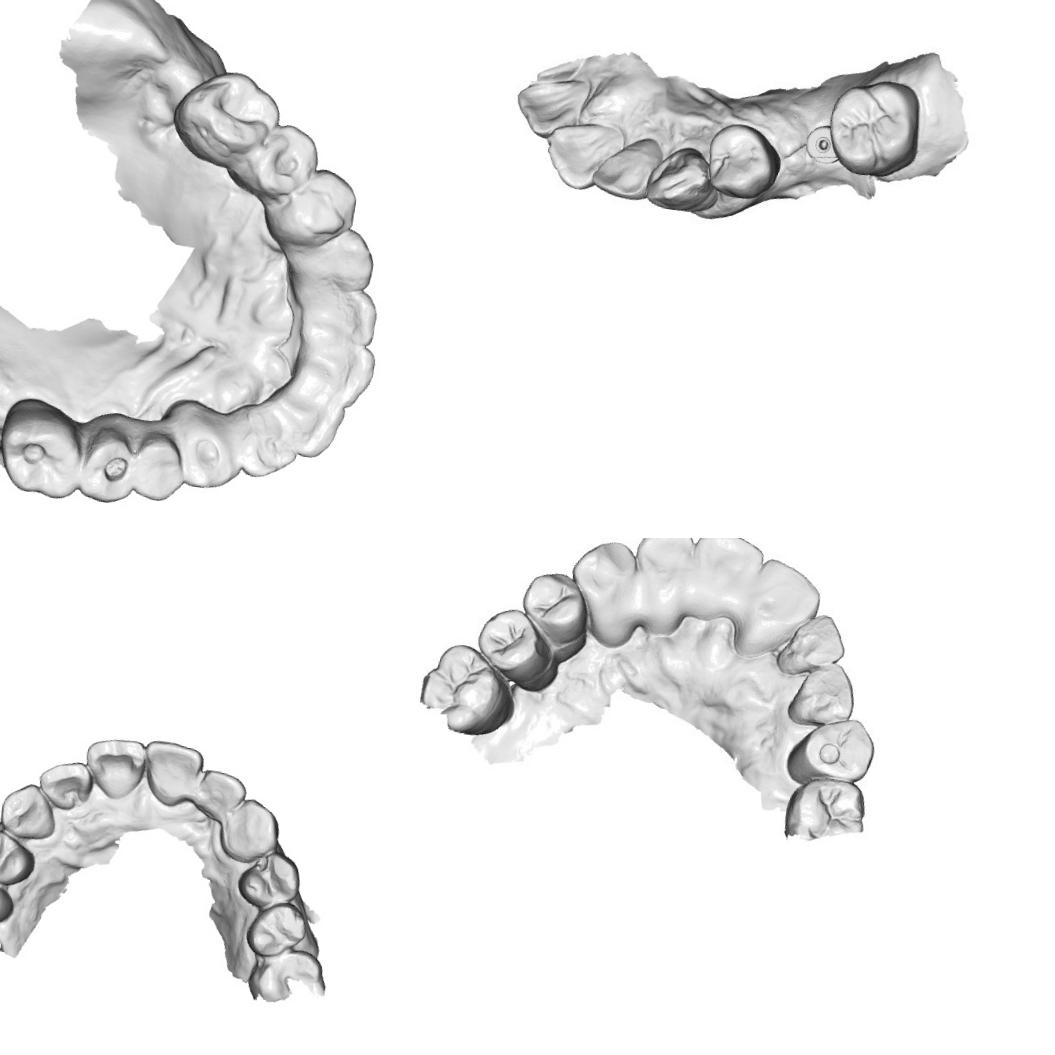canine: (567, 539, 644, 652), (170, 400, 250, 492), (293, 224, 379, 299), (785, 652, 864, 732), (645, 142, 720, 220), (216, 792, 286, 868), (0, 778, 63, 844)
implant: (800, 121, 846, 167)
incisor: (736, 560, 822, 661), (683, 538, 764, 637), (632, 538, 698, 640), (541, 118, 622, 192), (302, 335, 377, 412), (274, 389, 350, 464), (136, 734, 207, 812), (518, 68, 595, 138), (775, 612, 845, 688), (590, 131, 663, 202), (80, 732, 150, 804), (307, 283, 382, 350), (230, 418, 302, 483), (33, 752, 98, 816), (192, 766, 252, 824)
molar: (167, 63, 281, 170), (824, 71, 928, 183), (413, 641, 527, 742), (0, 392, 91, 502), (246, 943, 331, 1008)
premolar: (471, 603, 566, 696), (514, 567, 600, 661), (698, 114, 786, 204), (782, 712, 876, 796), (278, 164, 365, 250), (236, 116, 320, 204), (74, 421, 142, 508), (233, 846, 306, 916), (241, 896, 312, 964), (128, 427, 188, 505), (0, 825, 40, 889), (0, 866, 18, 929)
